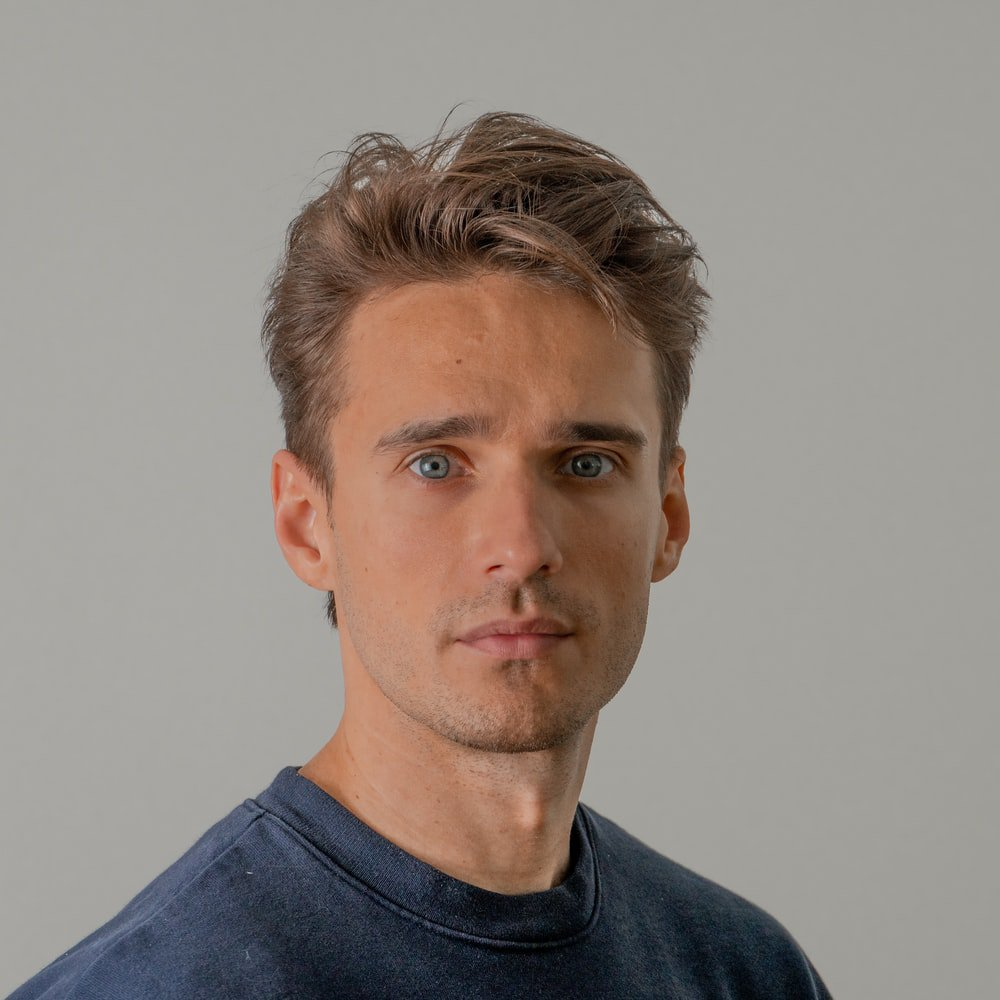noMask: (223, 116, 718, 776)
